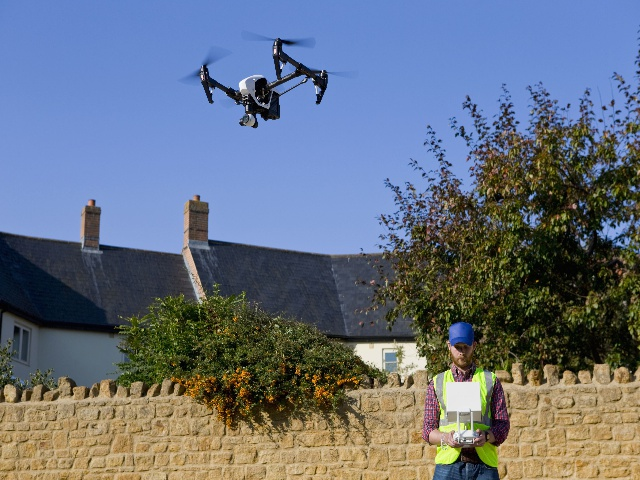drone: (175, 26, 357, 136)
